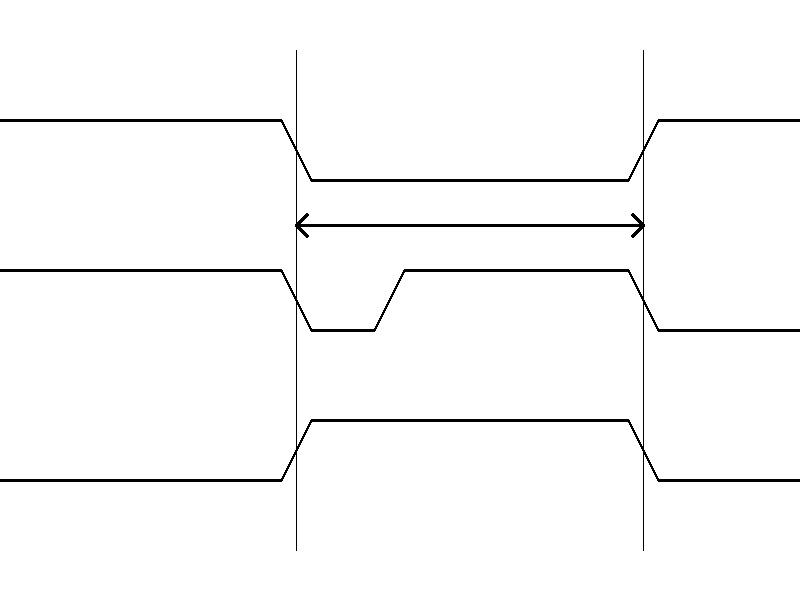double_arrow: (296, 210, 643, 240)
